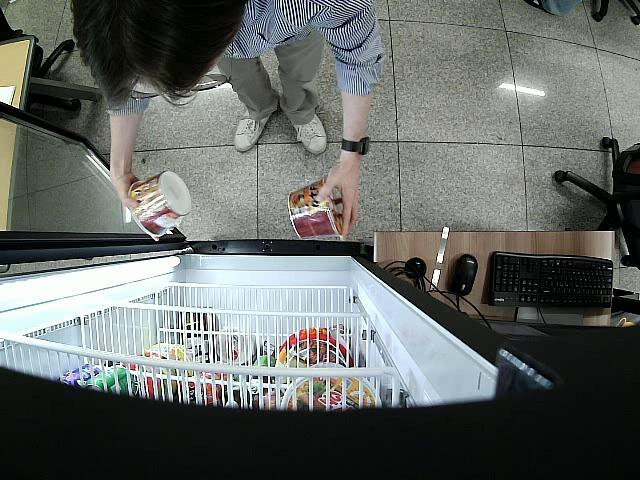00_hand: (313, 164, 360, 241), (106, 176, 142, 214)
05_nuguri_L: (130, 174, 190, 239), (289, 182, 348, 240)
